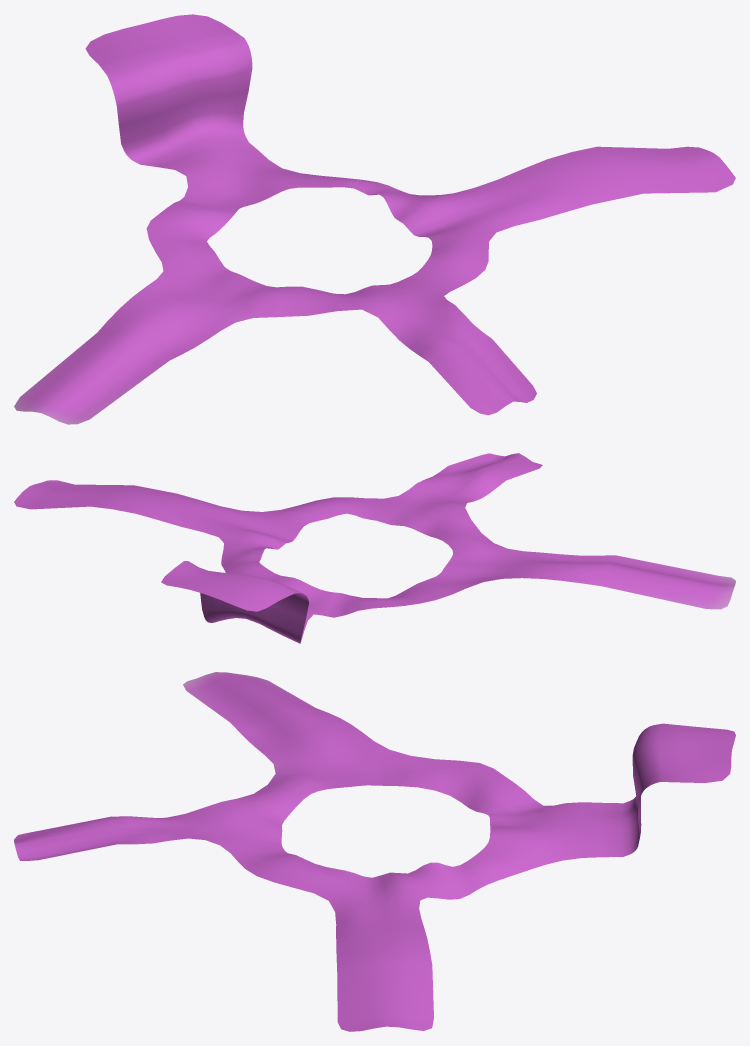
Rendered from Yogurt_Liquido_Texturizado.fbx.
The picture shows the model from 3 angles, top to bottom: view 1: azimuth 30°, elevation 25°; view 2: azimuth 150°, elevation 25°; view 3: azimuth 270°, elevation 25°; orthographic projection. The views are drawn at different scales.
Parts seen in each view (by area): view 1: Yogurt; view 2: Yogurt; view 3: Yogurt.
Part boxes in pixels (box(x1,y1,x2,y2)): Yogurt: box(14, 14, 735, 424); Yogurt: box(14, 453, 735, 643); Yogurt: box(14, 672, 735, 1031).
Bounding box in the file's own units: 31320 × 4216 × 26400.
1 material, 1 textured.
